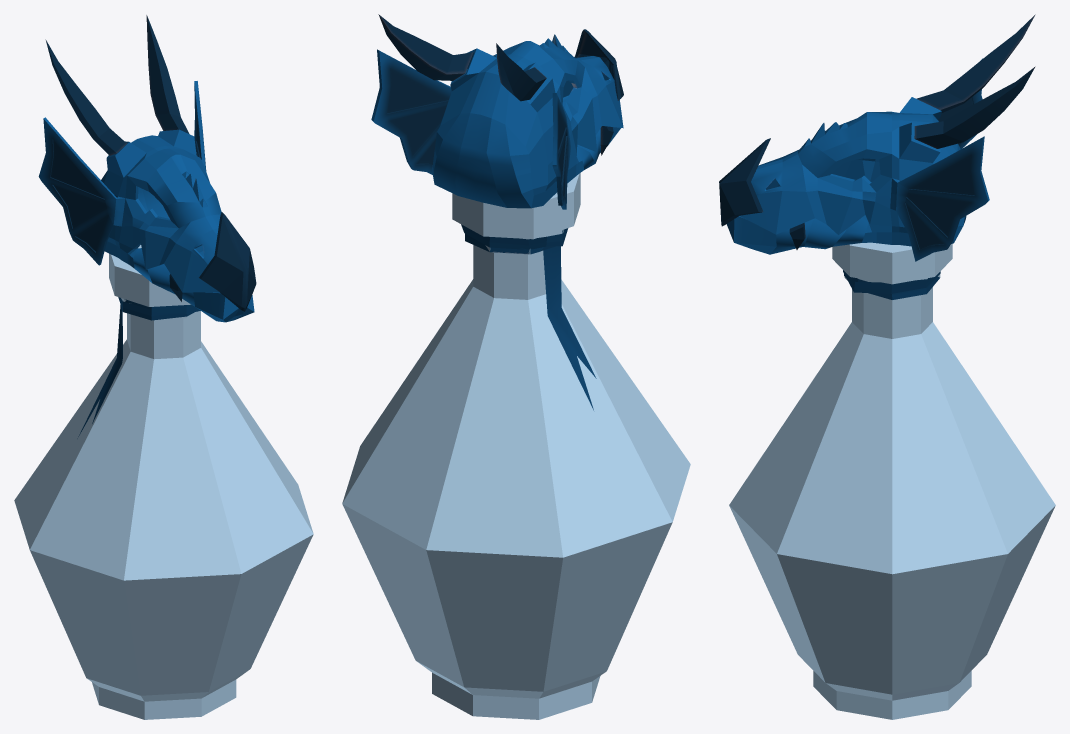
Rendered from dragonBottle.fbx.
The picture shows the model from 3 angles, left to right: view 1: azimuth 30°, elevation 25°; view 2: azimuth 150°, elevation 25°; view 3: azimuth 270°, elevation 25°; orthographic projection. The views are drawn at different scales.
Parts seen in each view (by area): view 1: dragonBottle; view 2: dragonBottle; view 3: dragonBottle.
Part boxes in pixels (left/top/right/bottom): dragonBottle: left=14, top=15, right=313, bottom=719; dragonBottle: left=342, top=14, right=690, bottom=719; dragonBottle: left=719, top=14, right=1055, bottom=719.
Bounding box in the file's own units: 13.87 × 30.28 × 14.3.
